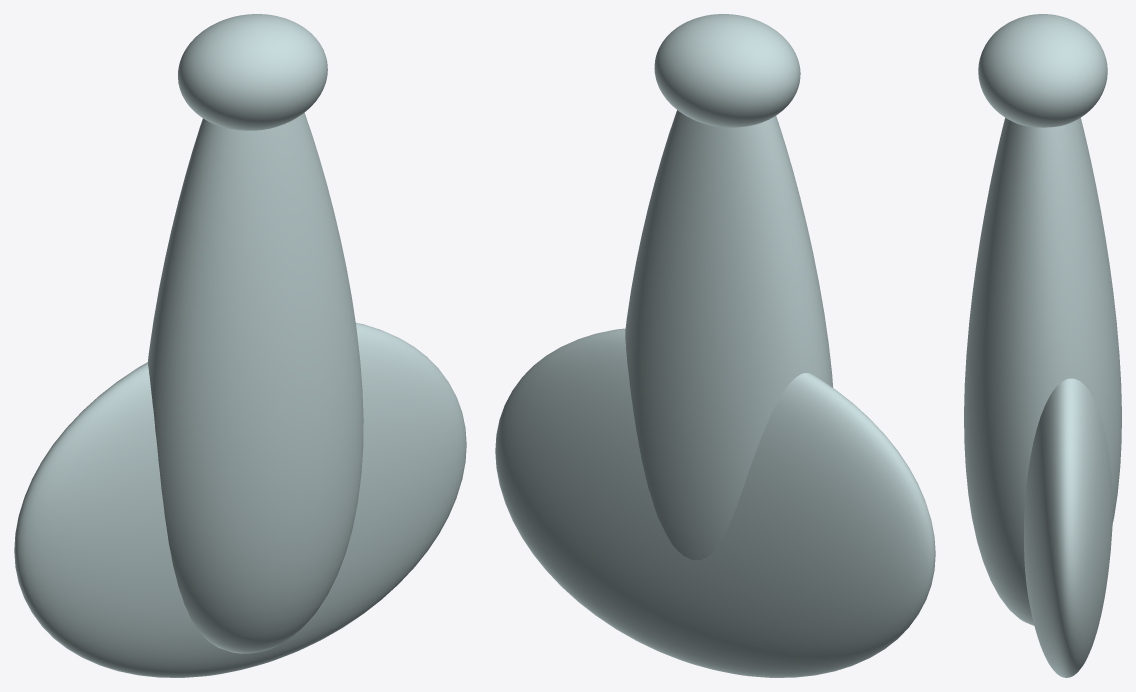
3 renders of one model, left to right at view 1: azimuth 30°, elevation 25°; view 2: azimuth 150°, elevation 25°; view 3: azimuth 270°, elevation 25°, orthographic. The views are drawn at different scales.
Visible parts, largest first — view 1: rising-peak, parent-meniscus, transfer-bead; view 2: parent-meniscus, rising-peak, transfer-bead; view 3: rising-peak, parent-meniscus, transfer-bead.
Part boxes in pixels (x1=…): rising-peak: x1=147, y1=113, x2=363, y2=653; parent-meniscus: x1=14, y1=322, x2=466, y2=677; transfer-bead: x1=178, y1=14, x2=327, y2=130; parent-meniscus: x1=495, y1=328, x2=935, y2=677; rising-peak: x1=625, y1=110, x2=833, y2=560; transfer-bead: x1=654, y1=14, x2=800, y2=127; rising-peak: x1=964, y1=117, x2=1121, y2=625; parent-meniscus: x1=1024, y1=378, x2=1112, y2=677; transfer-bead: x1=978, y1=14, x2=1107, y2=127.
Bounding box in the file's own units: 1.68 × 2.34 × 0.5367.
